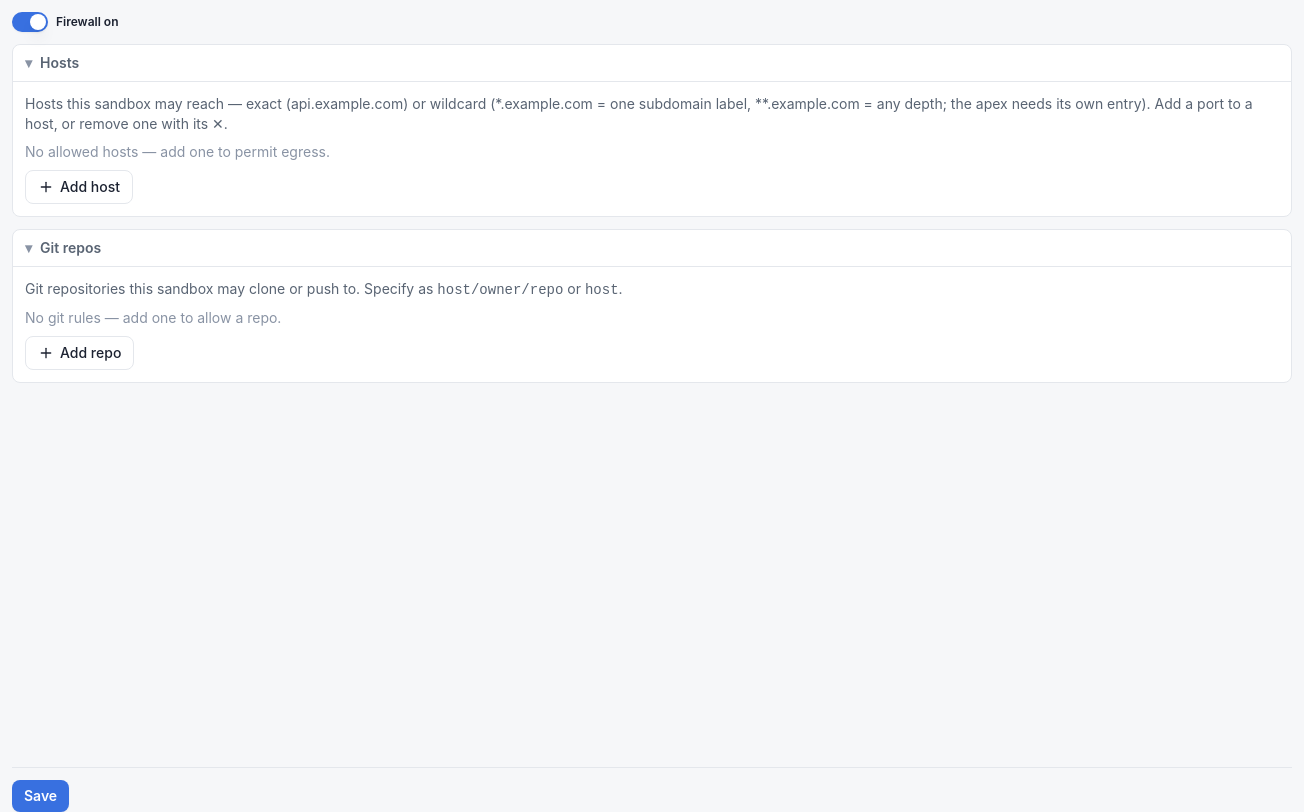
Test: PolicyEditor › rejects a malformed wildcard pattern before saving
The width and height of the screenshot is (1304, 812).
Click the button "Add host".
click(79, 187)  # box [25,170,133,204]
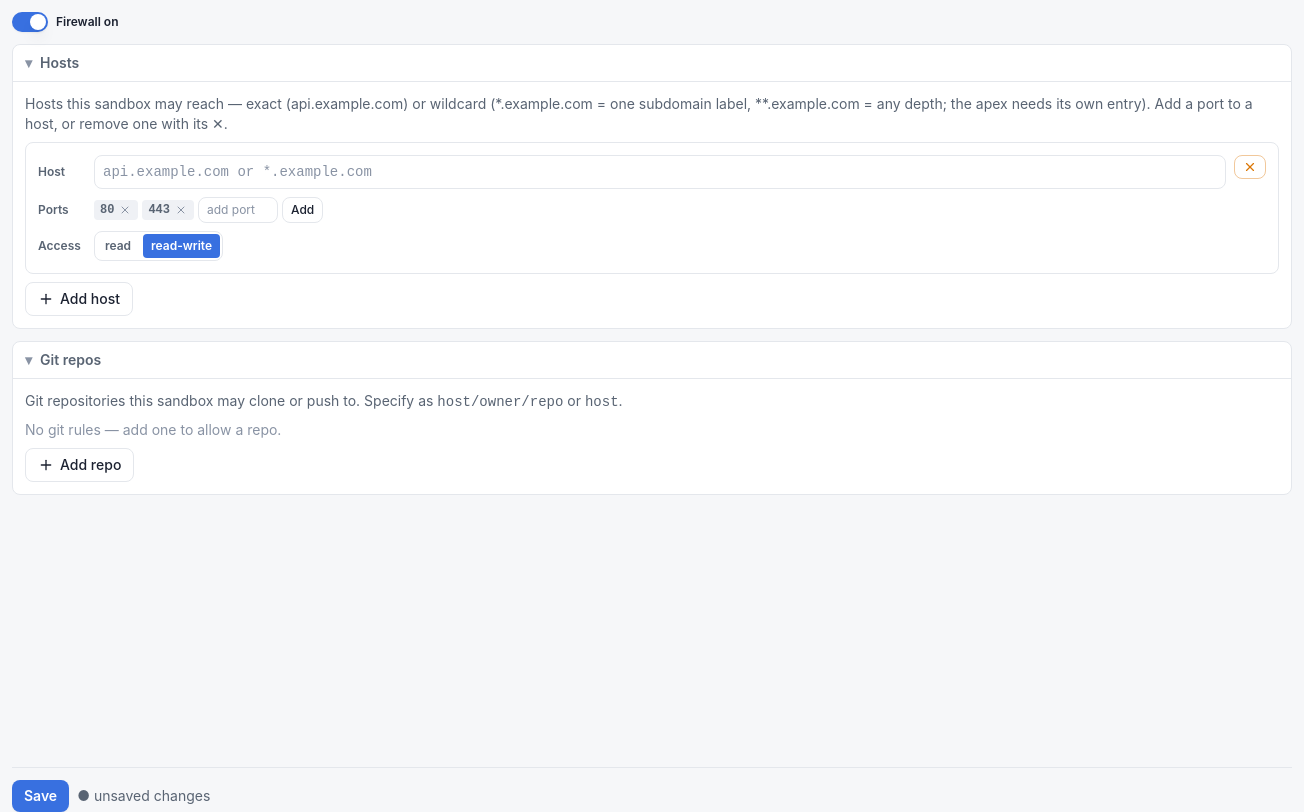
Type "foo.*.com" into the field named "Host for host rule 1".
click(660, 172); type("foo.*.com")  # box [94,155,1226,189]
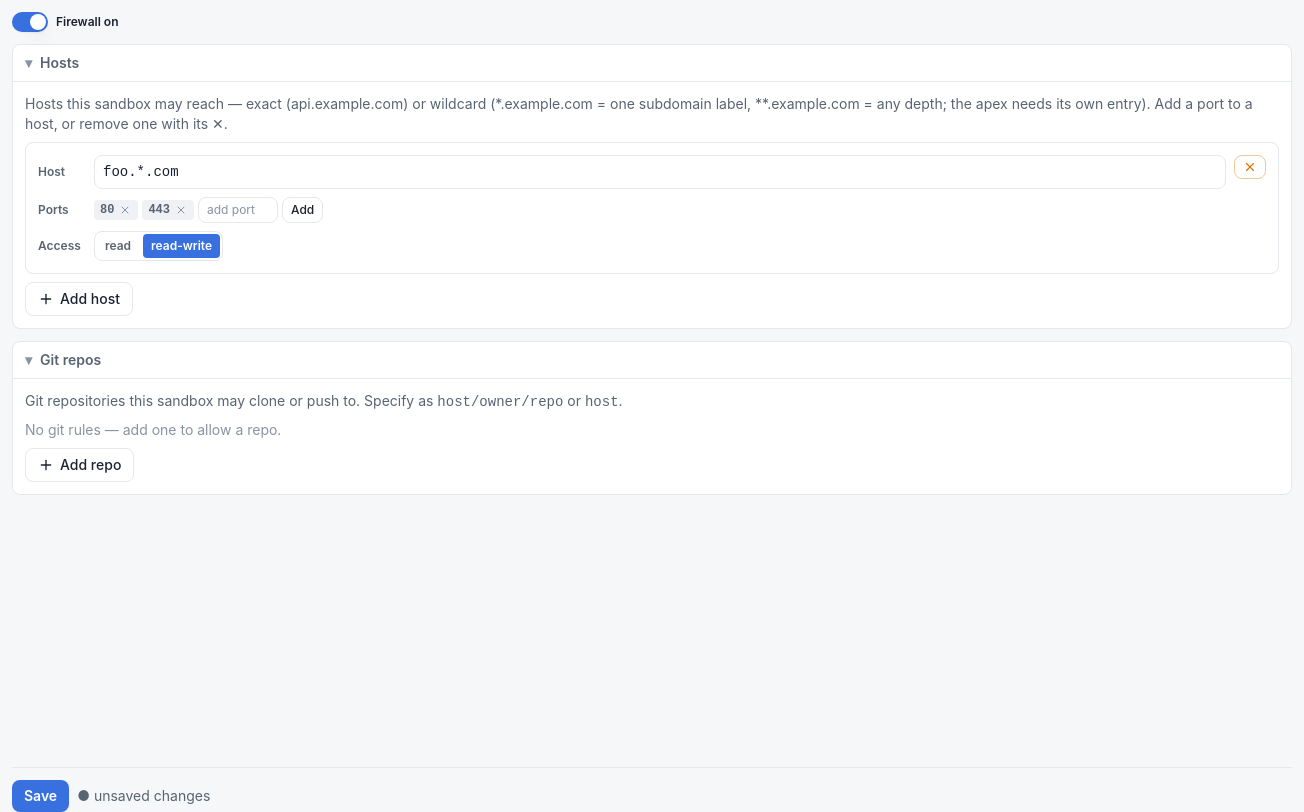
Click the button "Save".
click(41, 796)  # box [12,780,69,811]
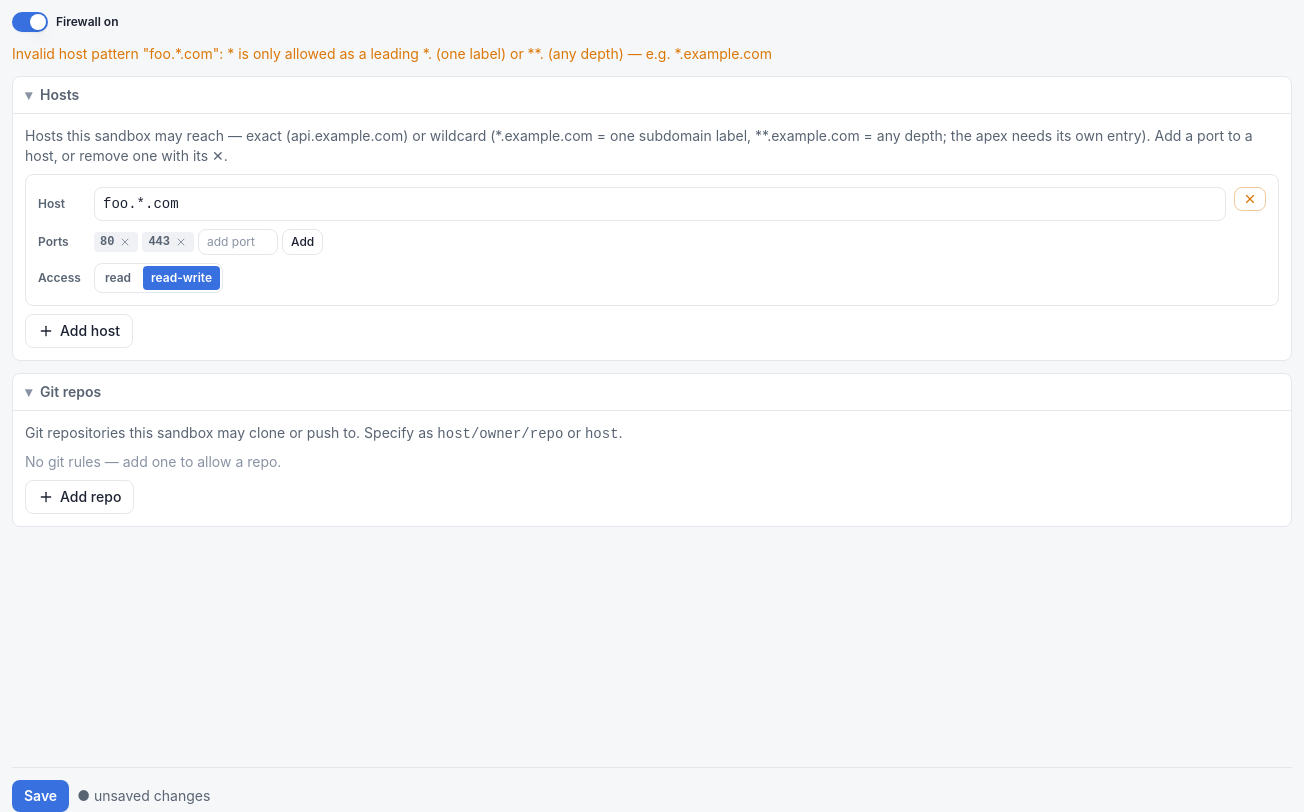
Expected: the text "Invalid host pattern \"foo.*.com\"" is shown, [12,45,772,62]
